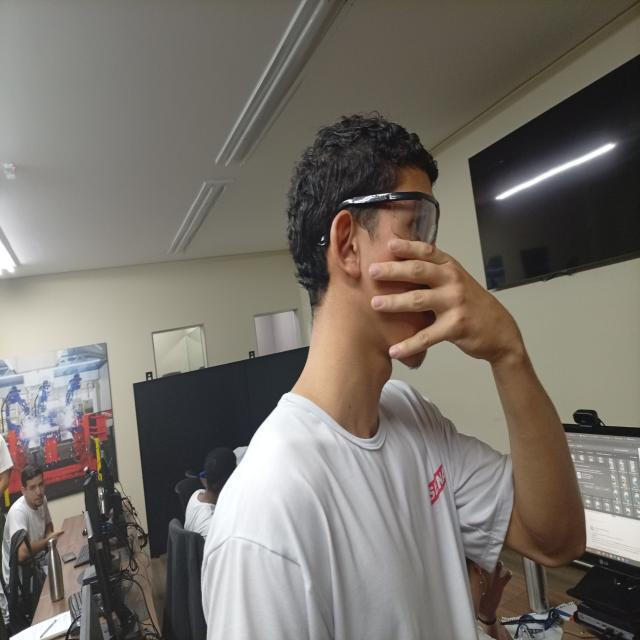oculos-epi: (340, 191, 440, 243), (315, 202, 348, 250)
sem_oculos: (24, 479, 50, 491)
